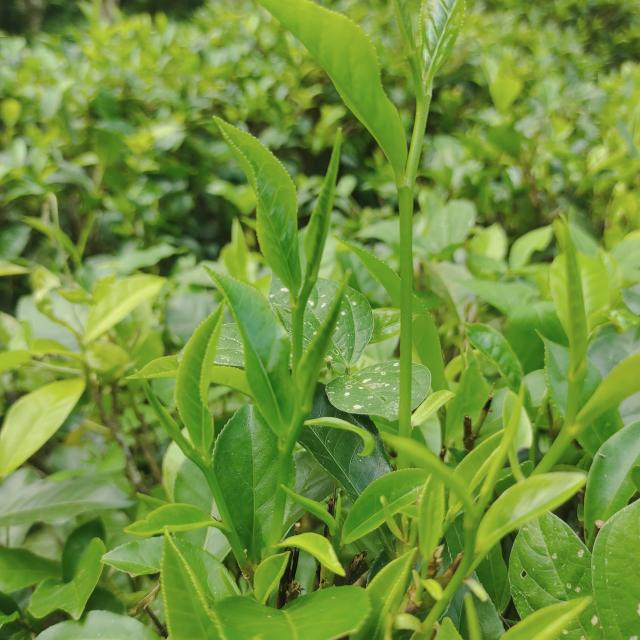unopened_leaf: (284, 256, 364, 426), (294, 120, 351, 319), (133, 364, 213, 480), (474, 374, 532, 528), (558, 209, 590, 403), (382, 0, 437, 105), (282, 481, 346, 538)
